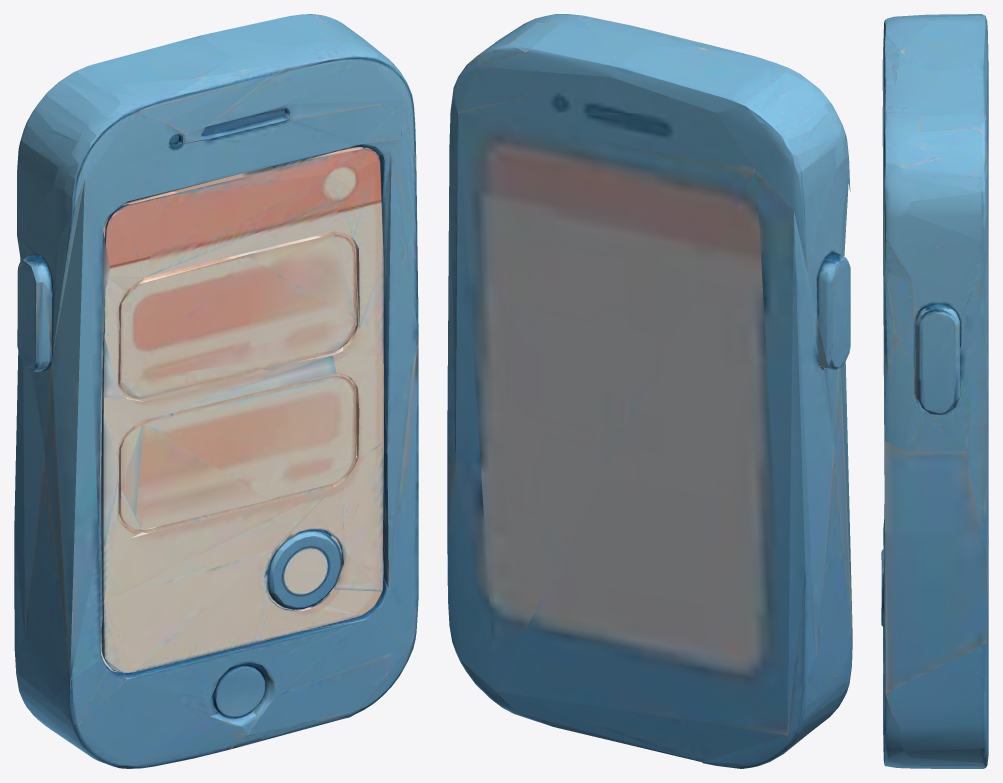
The model's file is phone.glb.
3 views of the same model, side by side, from view 1: azimuth 30°, elevation 25°; view 2: azimuth 150°, elevation 25°; view 3: azimuth 270°, elevation 25° (orthographic). The views are drawn at different scales.
Bounding box in the file's own units: 1.12 × 1.9 × 0.2838.
Materials: 1 (1 with a texture image).
